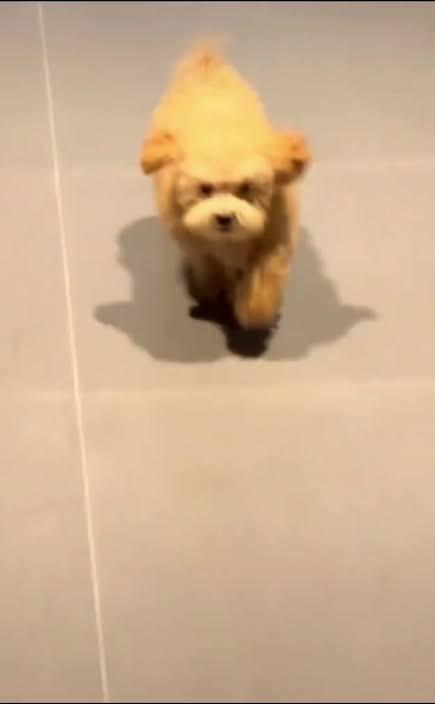puppy-dog: (140, 43, 316, 334)
